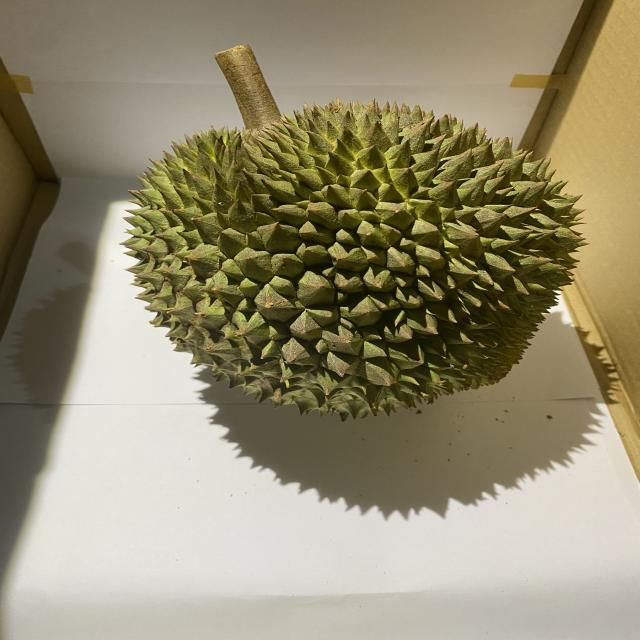immature: (122, 98, 593, 427)
